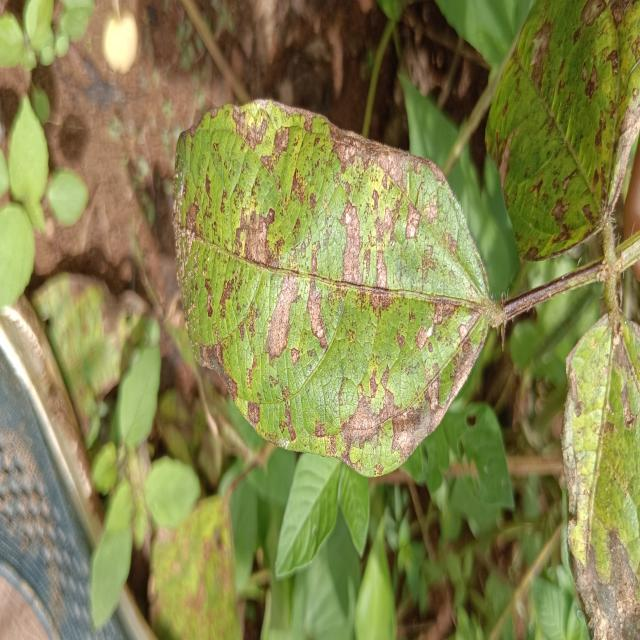Black gram_leaf spot: (172, 101, 488, 478), (486, 0, 640, 255), (562, 296, 640, 640)
